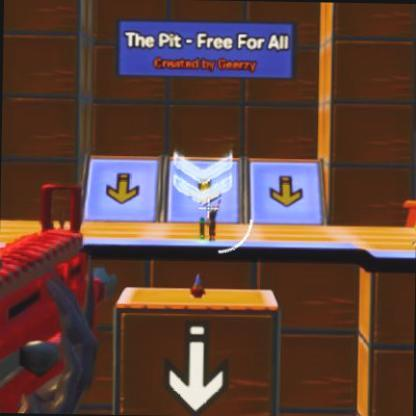person: (206, 208, 219, 237)
